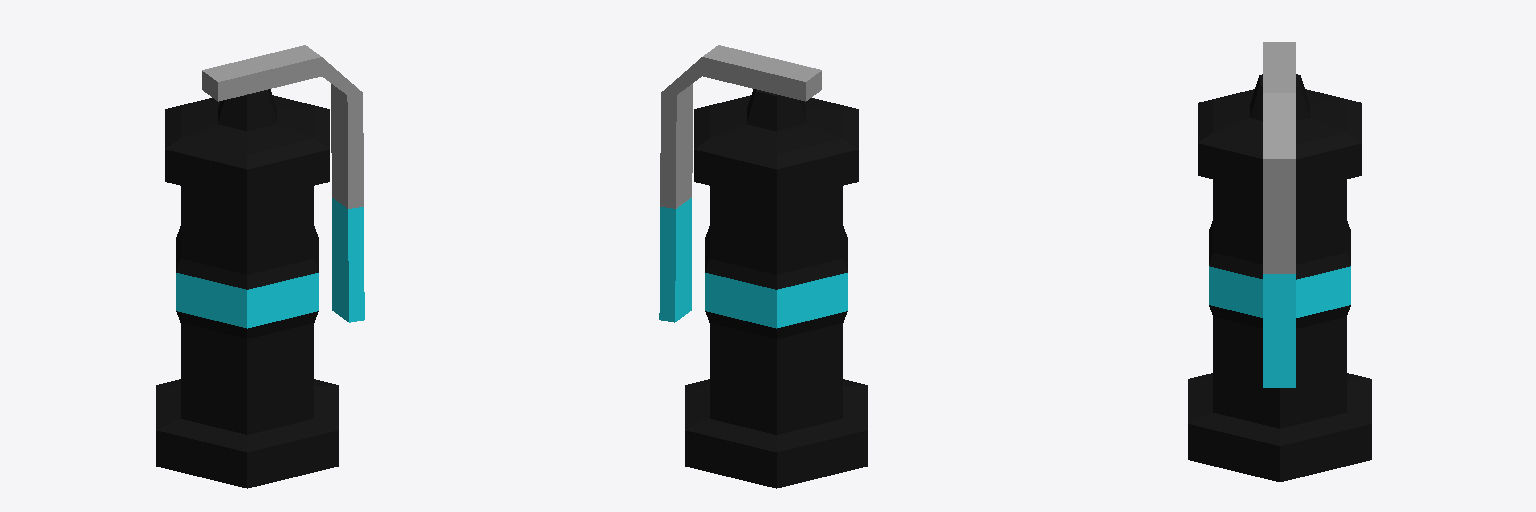
File: FlashOne.obj
3 renders of one model, left to right at view 1: azimuth 30°, elevation 25°; view 2: azimuth 150°, elevation 25°; view 3: azimuth 270°, elevation 25°, orthographic.
Parts seen in each view (by area): view 1: FlashOne; view 2: FlashOne; view 3: FlashOne.
Part boxes in pixels (x1,y1,x2,y2): FlashOne: (156, 45, 364, 488); FlashOne: (659, 45, 867, 488); FlashOne: (1188, 42, 1371, 481).
Bounding box in the file's own units: 0.4501 × 0.8181 × 0.3567.